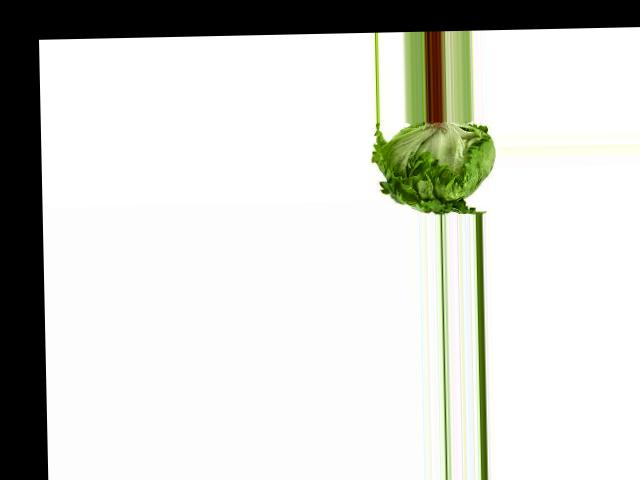lettuce: (366, 119, 500, 215)
